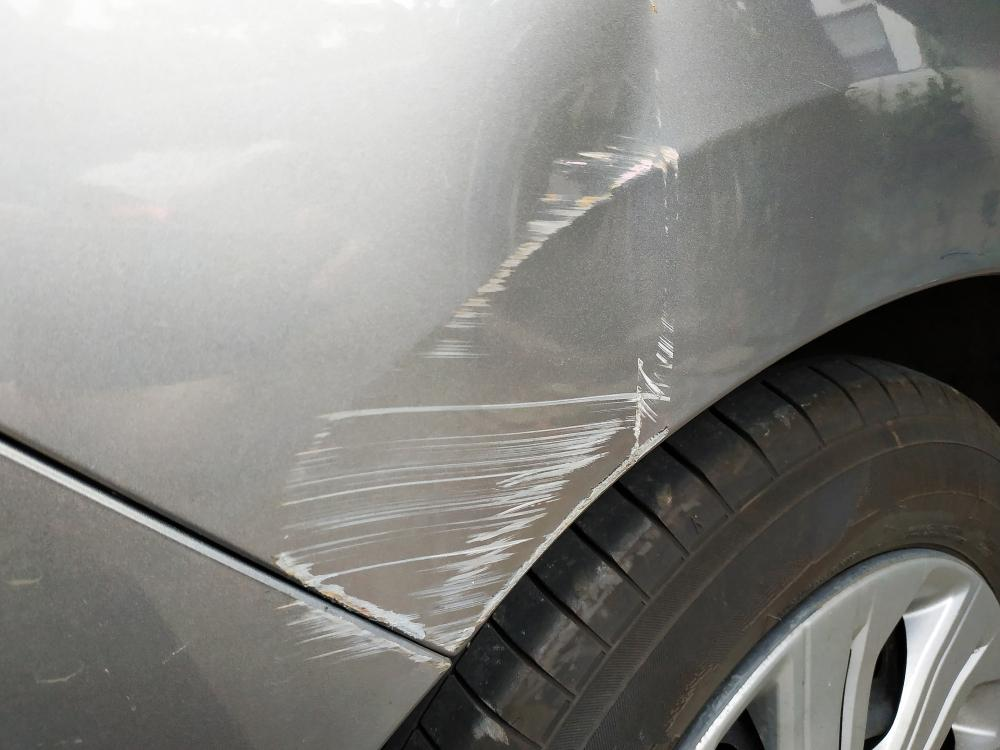dent: (485, 0, 692, 360)
scratch: (259, 267, 680, 655), (277, 591, 447, 669)
